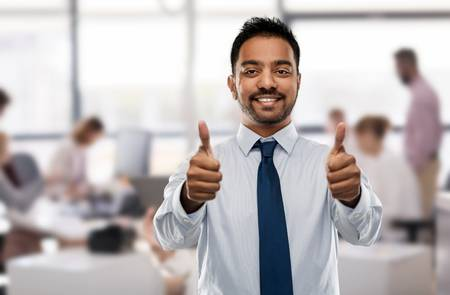F_shirt: (153, 121, 383, 295)
F_tie: (243, 139, 292, 295)
